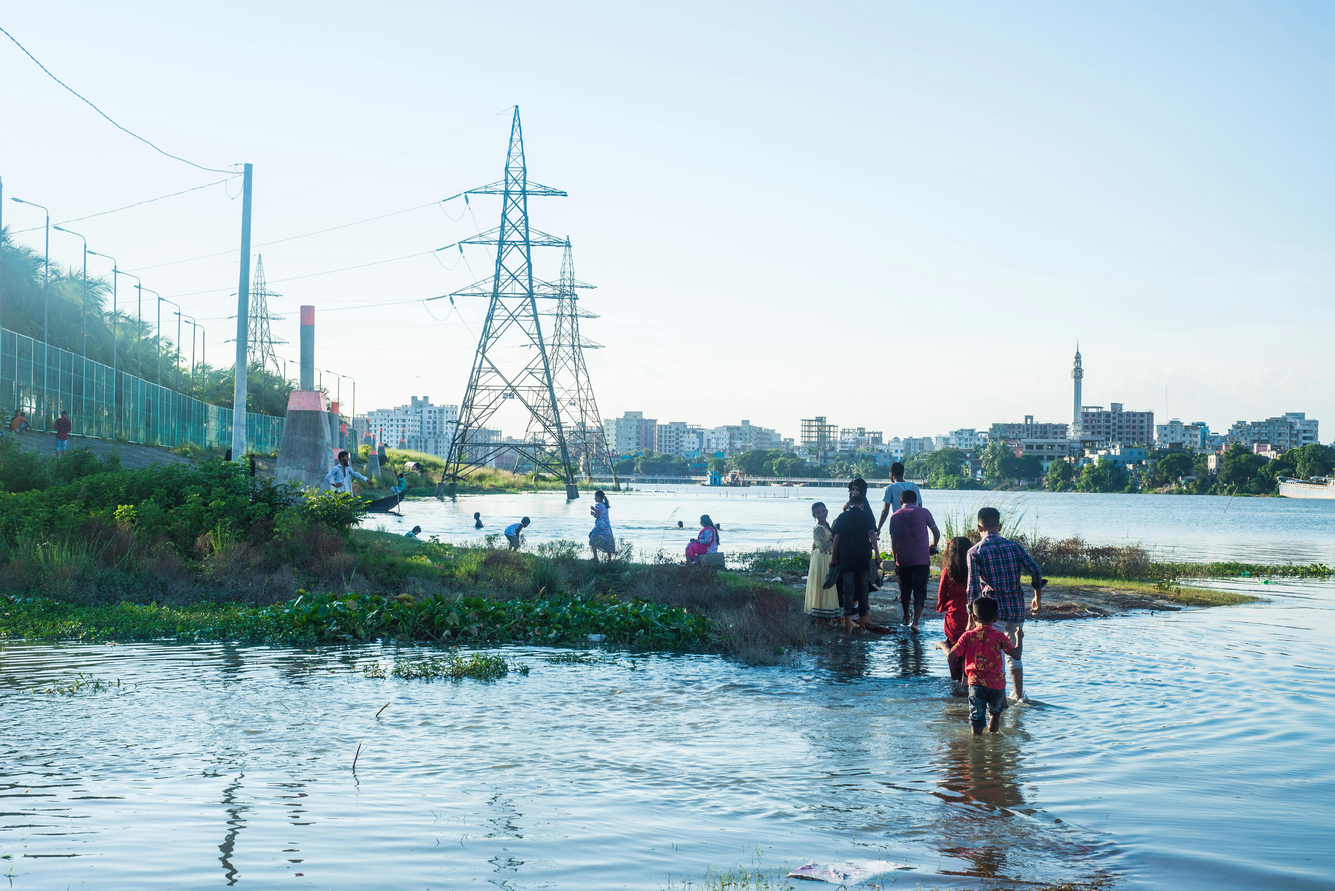insulator: (440, 192, 469, 202), (435, 240, 457, 251), (459, 191, 471, 207), (427, 294, 449, 302), (457, 242, 467, 256), (446, 296, 458, 307)
